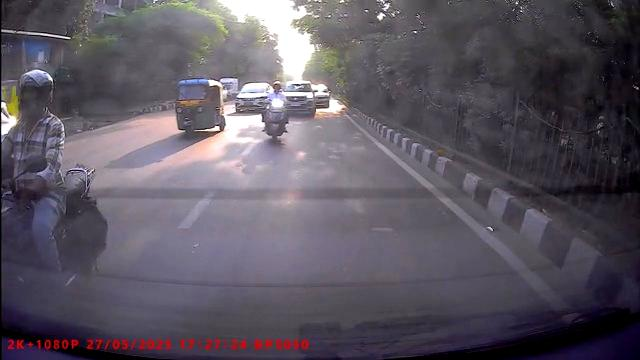motorcycle_with_helmet: (2, 67, 108, 319), (262, 81, 288, 142)
